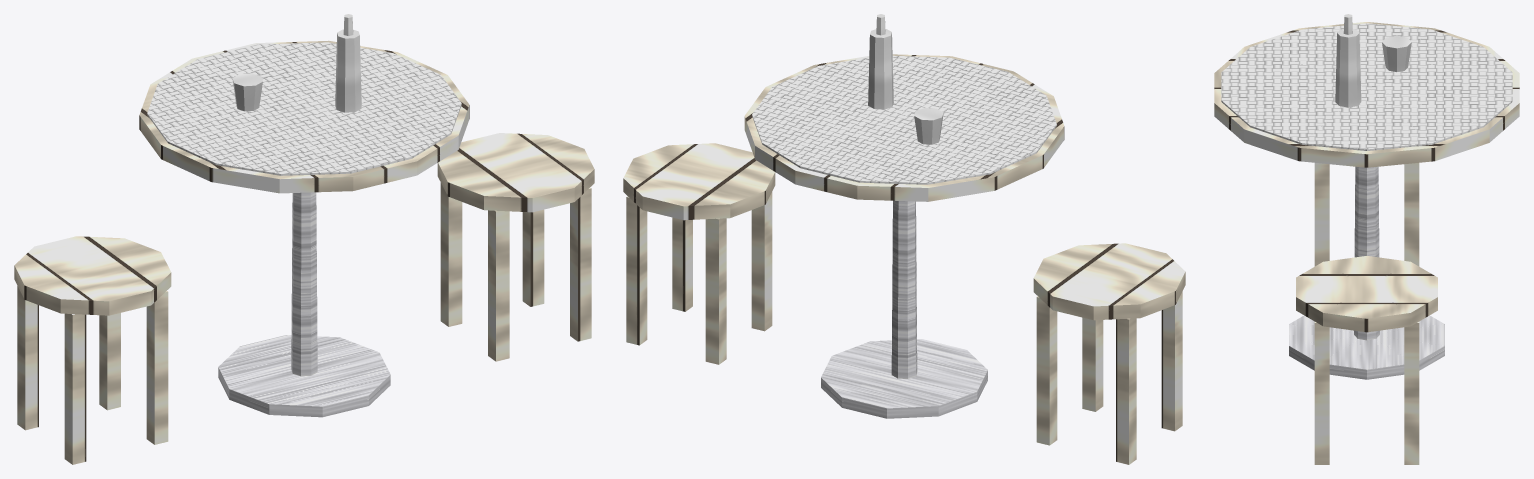
Rendered from tavolino_osteria.obj.
3 views of the same model, side by side, from view 1: azimuth 30°, elevation 25°; view 2: azimuth 150°, elevation 25°; view 3: azimuth 270°, elevation 25° (orthographic). The views are drawn at different scales.
Parts seen in each view (by area): view 1: tessuto_002, legno_006, legno_005, metallo_000, legno_001, vetro_003, vetro_004; view 2: tessuto_002, legno_006, legno_005, metallo_000, legno_001, vetro_003, vetro_004; view 3: tessuto_002, legno_005, metallo_000, legno_006, legno_001, vetro_003, vetro_004.
Boxes of the visible parts, bbox=[...] form: tessuto_002: bbox=[147, 42, 461, 175]; legno_006: bbox=[17, 182, 591, 464]; legno_005: bbox=[14, 133, 594, 315]; metallo_000: bbox=[218, 192, 390, 417]; legno_001: bbox=[139, 40, 469, 193]; vetro_003: bbox=[335, 14, 361, 112]; vetro_004: bbox=[232, 73, 262, 111]; tessuto_002: bbox=[752, 55, 1056, 184]; legno_006: bbox=[626, 192, 1182, 464]; legno_005: bbox=[623, 143, 1185, 320]; metallo_000: bbox=[821, 200, 987, 418]; legno_001: bbox=[744, 54, 1064, 201]; vetro_003: bbox=[868, 14, 893, 109]; vetro_004: bbox=[914, 108, 943, 144]; tessuto_002: bbox=[1221, 23, 1512, 150]; legno_005: bbox=[1296, 256, 1437, 332]; metallo_000: bbox=[1289, 166, 1444, 379]; legno_006: bbox=[1314, 163, 1419, 464]; legno_001: bbox=[1214, 22, 1519, 167]; vetro_003: bbox=[1335, 14, 1361, 107]; vetro_004: bbox=[1382, 35, 1411, 71].
Size of the model in its own units: 1.64 by 1.02 by 0.819.
7 materials, 7 textured.
